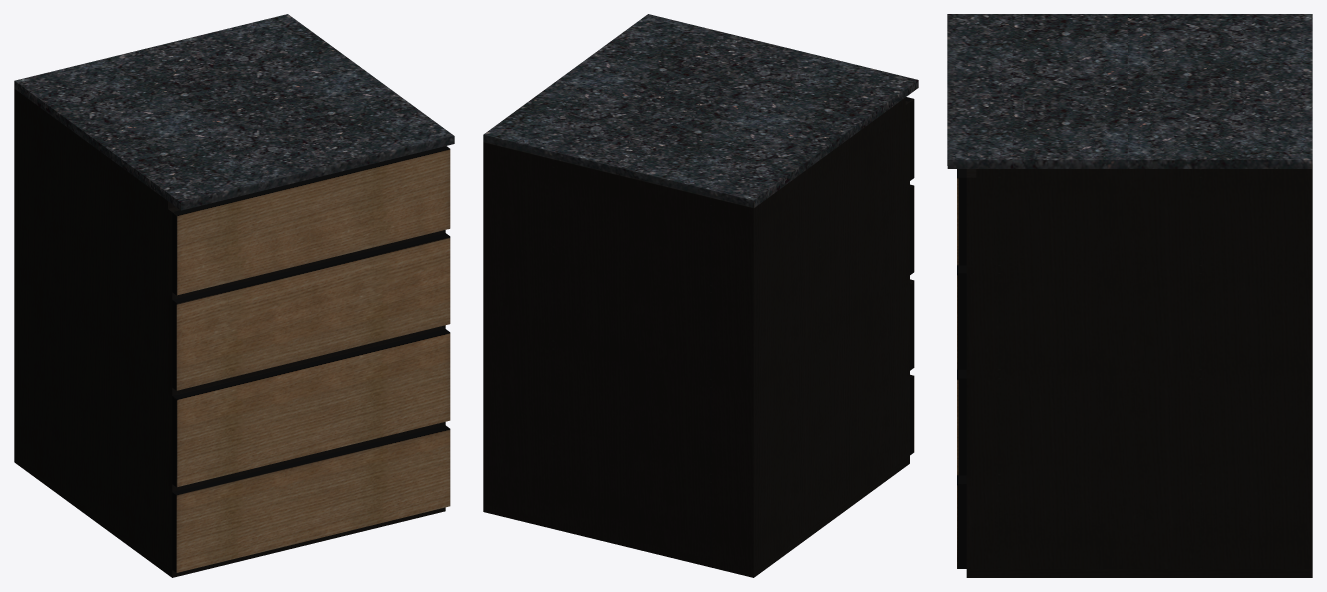
The model's file is Counter_Q_UN_TEX.FBX.
3 renders of one model, left to right at view 1: azimuth 30°, elevation 25°; view 2: azimuth 150°, elevation 25°; view 3: azimuth 270°, elevation 25°, orthographic. The views are drawn at different scales.
Parts seen in each view (by area): view 1: Counter; view 2: Counter; view 3: Counter.
Part boxes in pixels (<box>): Counter: <box>14,14,454,577</box>; Counter: <box>483,14,918,577</box>; Counter: <box>947,14,1312,577</box>.
Size of the model in its own units: 36 by 48 by 38.
